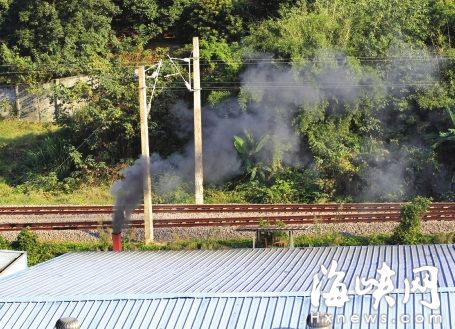dust: (102, 152, 173, 232)
